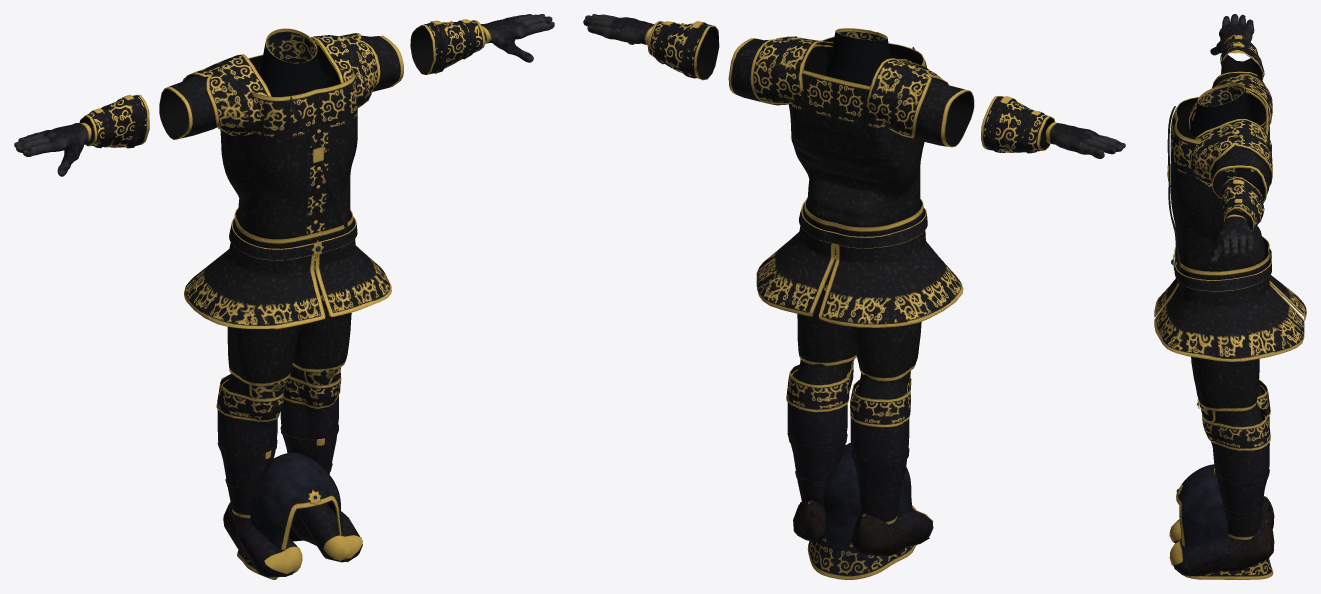
The model's file is light_infernal.glb.
3 views of the same model, side by side, from view 1: azimuth 30°, elevation 25°; view 2: azimuth 150°, elevation 25°; view 3: azimuth 270°, elevation 25° (orthographic). The views are drawn at different scales.
Parts seen in each view (by area): view 1: chest, feet, gloves, legs, hood; view 2: chest, feet, gloves, legs, hood; view 3: chest, feet, gloves, legs, hood.
Boxes of the visible parts, left/top/right/bottom form: chest: left=159, top=28, right=403, bottom=328; feet: left=216, top=373, right=362, bottom=577; gloves: left=14, top=14, right=554, bottom=176; legs: left=225, top=261, right=351, bottom=399; hood: left=237, top=452, right=347, bottom=579; chest: left=728, top=28, right=974, bottom=327; feet: left=786, top=364, right=933, bottom=556; gloves: left=583, top=14, right=1125, bottom=158; legs: left=795, top=249, right=921, bottom=399; hood: left=807, top=442, right=916, bottom=579; chest: left=1154, top=71, right=1306, bottom=361; feet: left=1169, top=380, right=1274, bottom=576; gloves: left=1210, top=14, right=1264, bottom=262; legs: left=1191, top=357, right=1262, bottom=426; hood: left=1176, top=464, right=1273, bottom=579.
Size of the model in its own units: 1.8 by 1.7 by 0.4879.
Materials: 5 (5 with a texture image).
